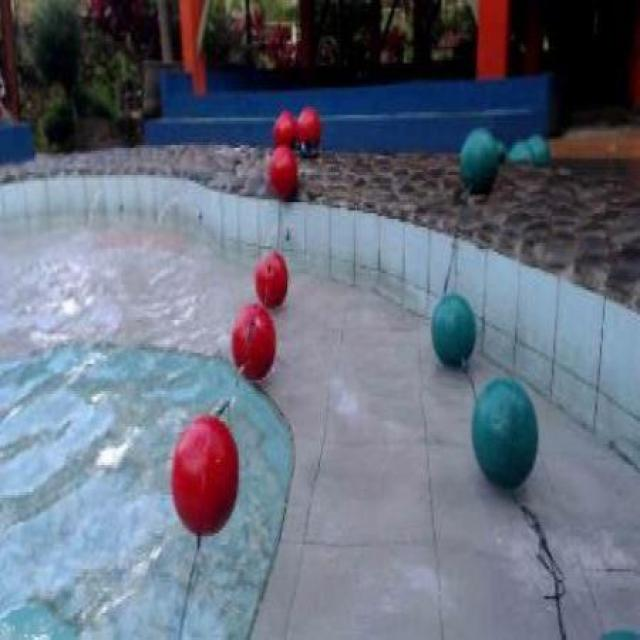buoy: (170, 414, 240, 537), (471, 376, 539, 489), (230, 302, 274, 382), (431, 290, 476, 367), (459, 129, 498, 194), (253, 252, 287, 306), (266, 144, 297, 200), (296, 104, 320, 148), (272, 111, 297, 146)
